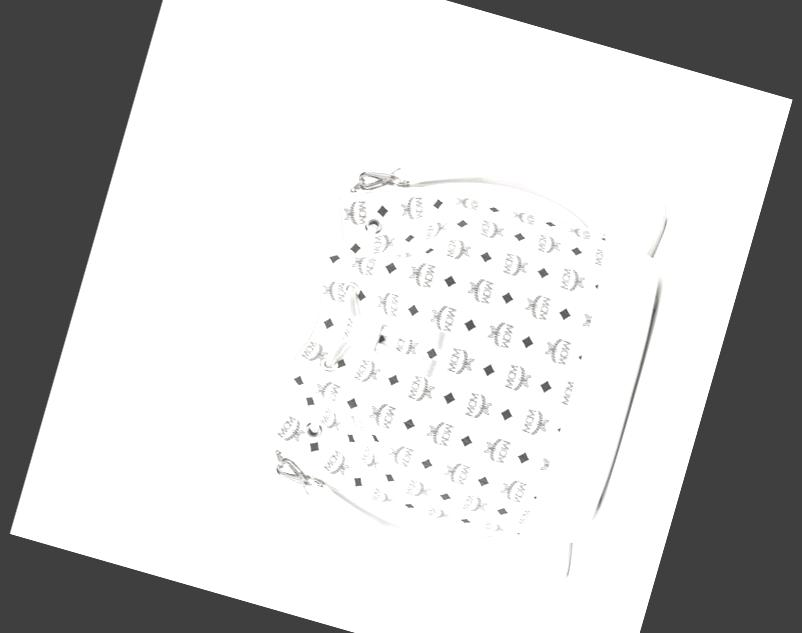MCM: (244, 149, 620, 557)
